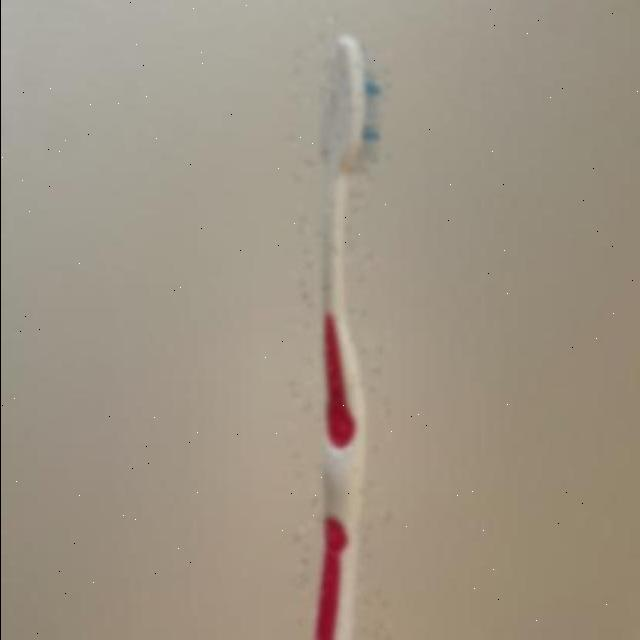toothbrush: (291, 16, 389, 640)
